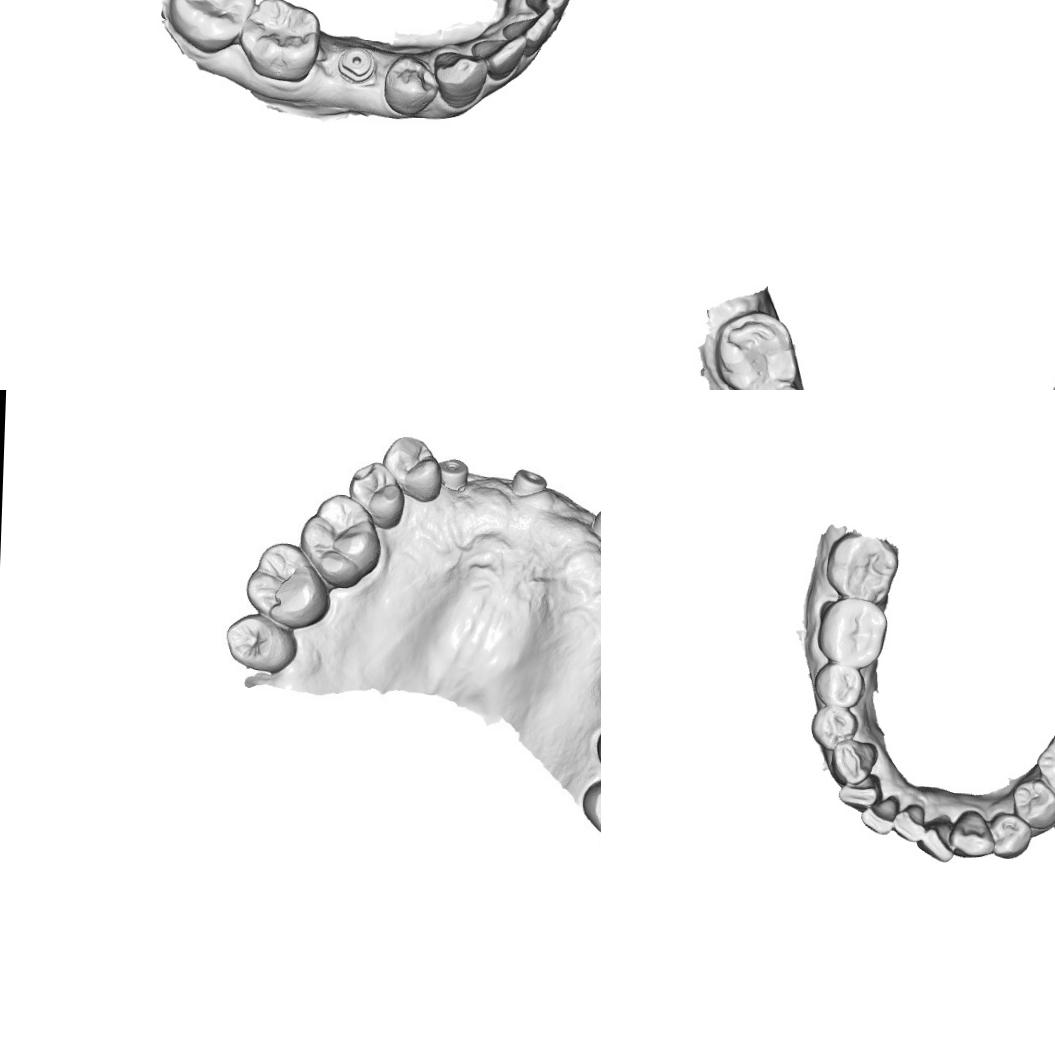canine: (432, 48, 490, 109), (948, 808, 998, 858), (828, 737, 879, 786)
implant: (336, 43, 377, 85), (508, 461, 552, 500), (436, 453, 472, 492), (584, 504, 601, 547)
incisor: (469, 31, 529, 81), (500, 5, 558, 50), (916, 813, 955, 864), (858, 792, 902, 836), (838, 770, 884, 812), (892, 800, 927, 844), (524, 0, 578, 17)
molar: (297, 490, 384, 592), (242, 540, 330, 630), (237, 0, 322, 84), (713, 309, 798, 390), (823, 534, 900, 606), (815, 596, 890, 669), (163, 0, 258, 55), (223, 611, 298, 673), (576, 776, 601, 852), (1033, 725, 1055, 804)
premolar: (380, 433, 445, 503), (346, 458, 405, 532), (381, 50, 442, 118), (811, 661, 867, 710), (808, 705, 861, 753), (1009, 777, 1055, 831), (986, 810, 1034, 861)
